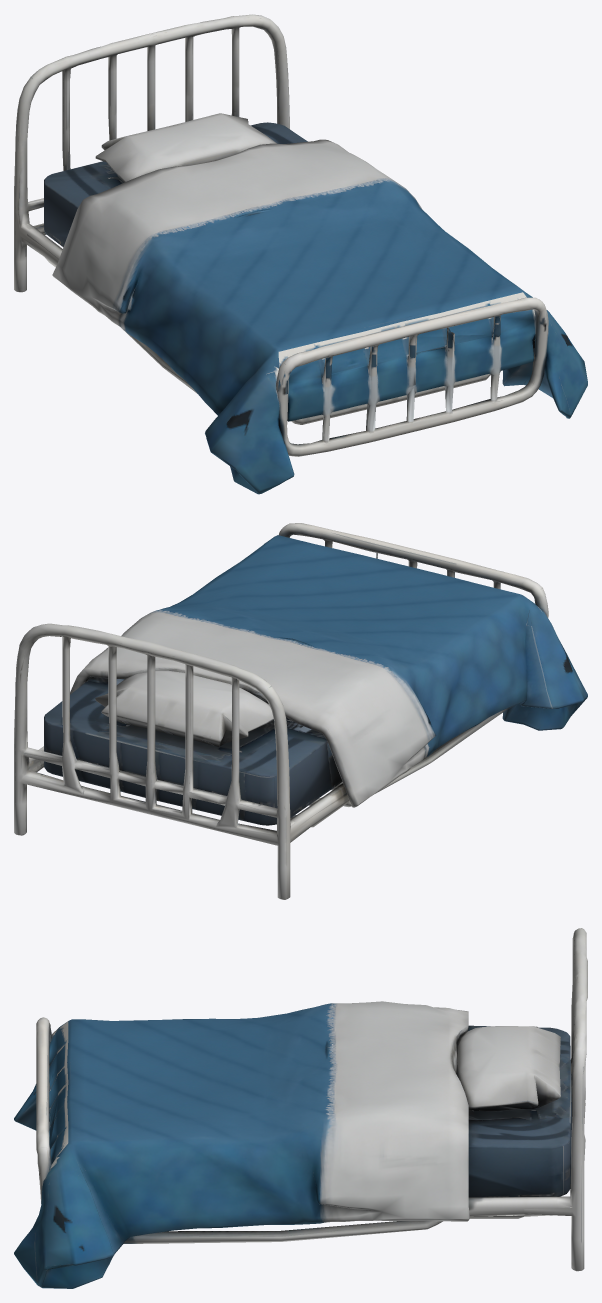
Rendered from Meshy_AI_Midnight_Bed_0323093156_texture.fbx.
3 views of the same model, one above another, from view 1: azimuth 30°, elevation 25°; view 2: azimuth 150°, elevation 25°; view 3: azimuth 270°, elevation 25° (orthographic). The views are drawn at different scales.
Visible parts, largest first — view 1: Mesh_0.001; view 2: Mesh_0.001; view 3: Mesh_0.001.
Part boxes in pixels (<box>): Mesh_0.001: <box>14,14,587,494</box>; Mesh_0.001: <box>14,523,587,899</box>; Mesh_0.001: <box>14,928,587,1288</box>.
Size of the model in its own units: 1688 by 1000 by 2199.
1 material, 1 textured.
